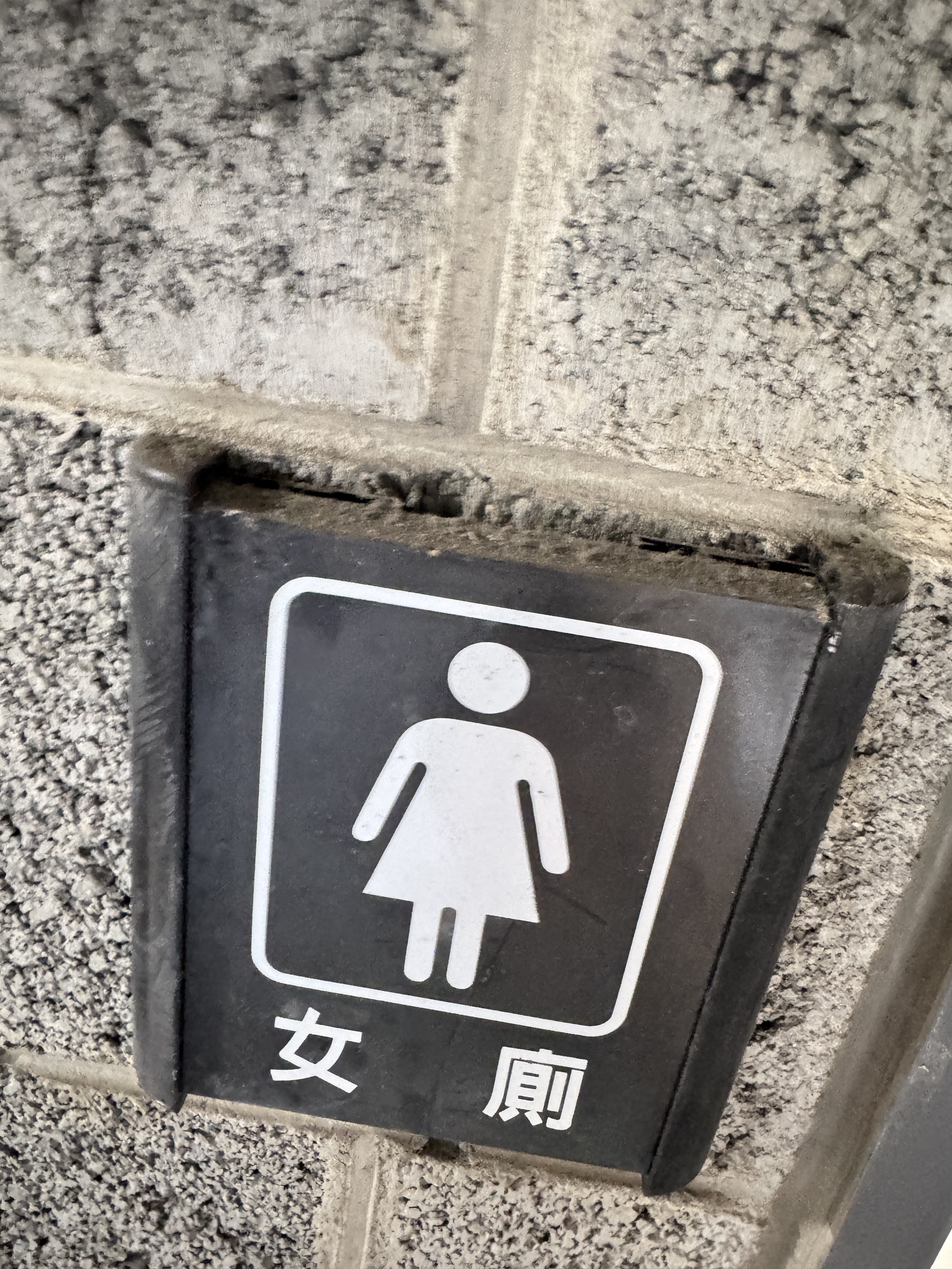toilet_sign: (85, 422, 919, 1215), (94, 432, 798, 1188)
